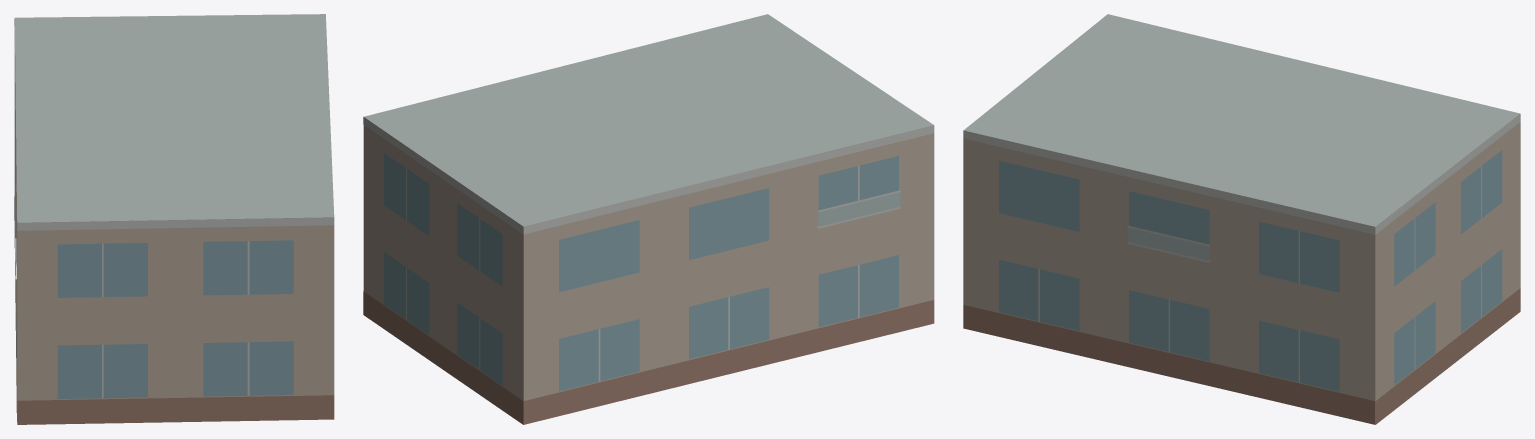
File: survey-upis-32970061.glb
The picture shows the model from 3 angles, left to right: view 1: azimuth 30°, elevation 25°; view 2: azimuth 150°, elevation 25°; view 3: azimuth 270°, elevation 25°; orthographic projection. The views are drawn at different scales.
Parts seen in each view (by area): view 1: survey-upis-32970061.tmp; view 2: survey-upis-32970061.tmp; view 3: survey-upis-32970061.tmp.
Boxes of the visible parts, bbox=[...] form: survey-upis-32970061.tmp: bbox=[14, 14, 334, 424]; survey-upis-32970061.tmp: bbox=[363, 14, 934, 424]; survey-upis-32970061.tmp: bbox=[963, 14, 1520, 424].
Bounding box in the file's own units: 14.07 × 6.1 × 15.57.
